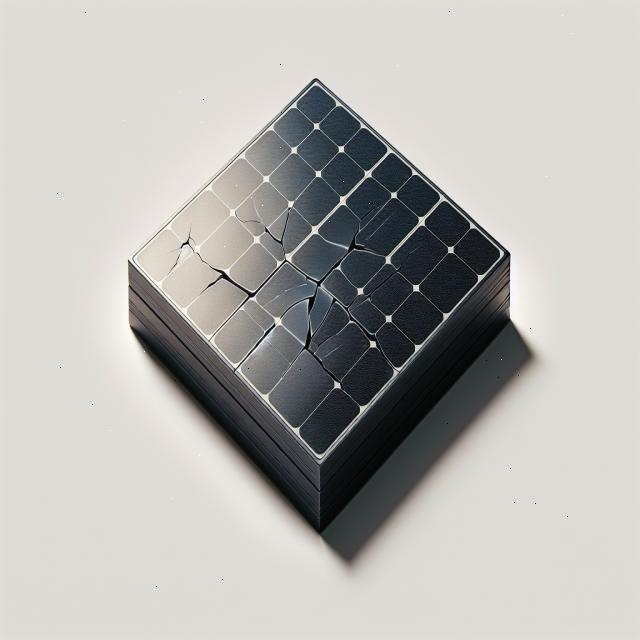Anomaly Solar Panel: (118, 70, 506, 458)
Structural Damage: (145, 212, 250, 326), (276, 283, 344, 393), (348, 240, 423, 317), (327, 202, 397, 282), (227, 189, 296, 259), (343, 306, 404, 374), (260, 277, 307, 307)
